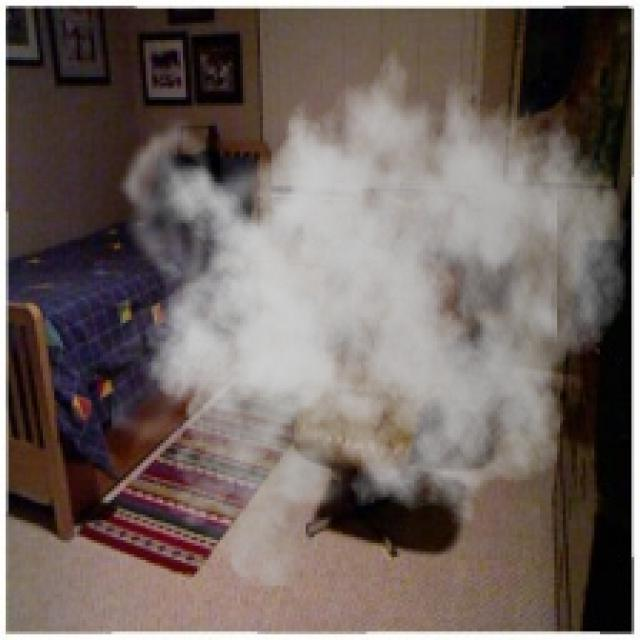Smoke: (111, 26, 628, 586)
